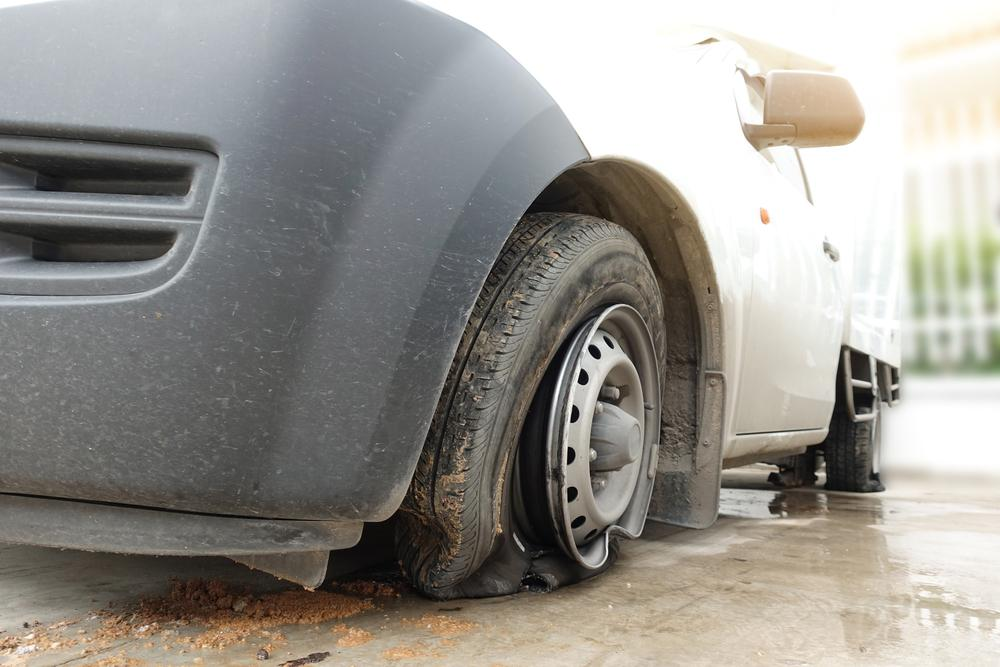tire flat: (389, 211, 664, 600), (822, 395, 886, 492)
